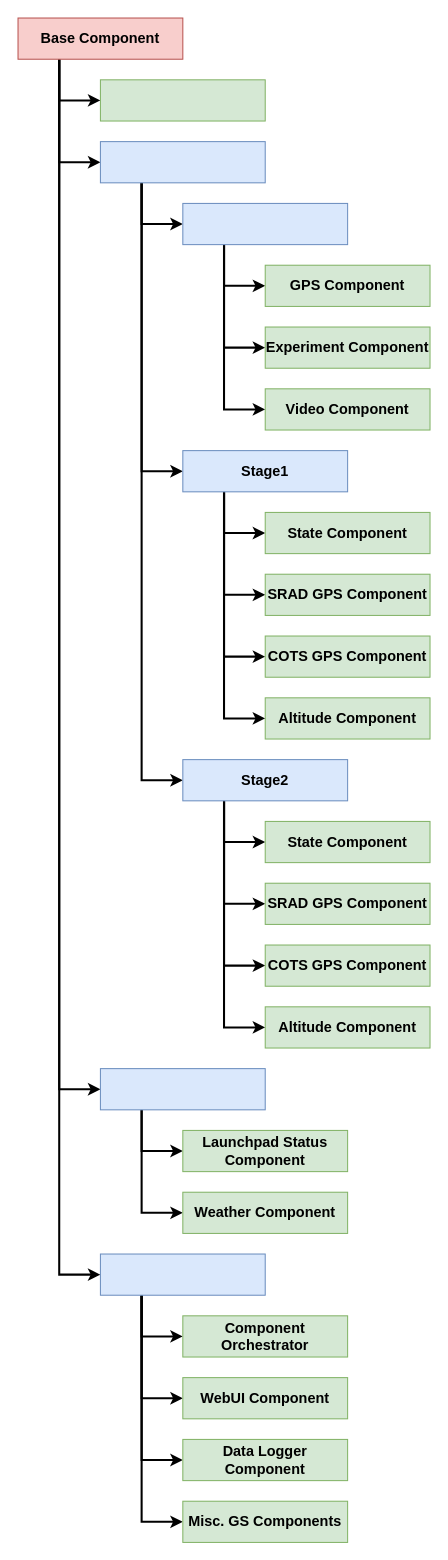
Image size: 448x1560. Some labels were removed from this diagram. Here are the shapes that lost their labels. From the top down, the centre of each, then its label:
At point 182,100: "Mission Component".
At point 182,162: "Rocket".
At point 265,223: "Payload".
At point 182,1089: "LaunchPad".
At point 182,1274: "Ground Station".
